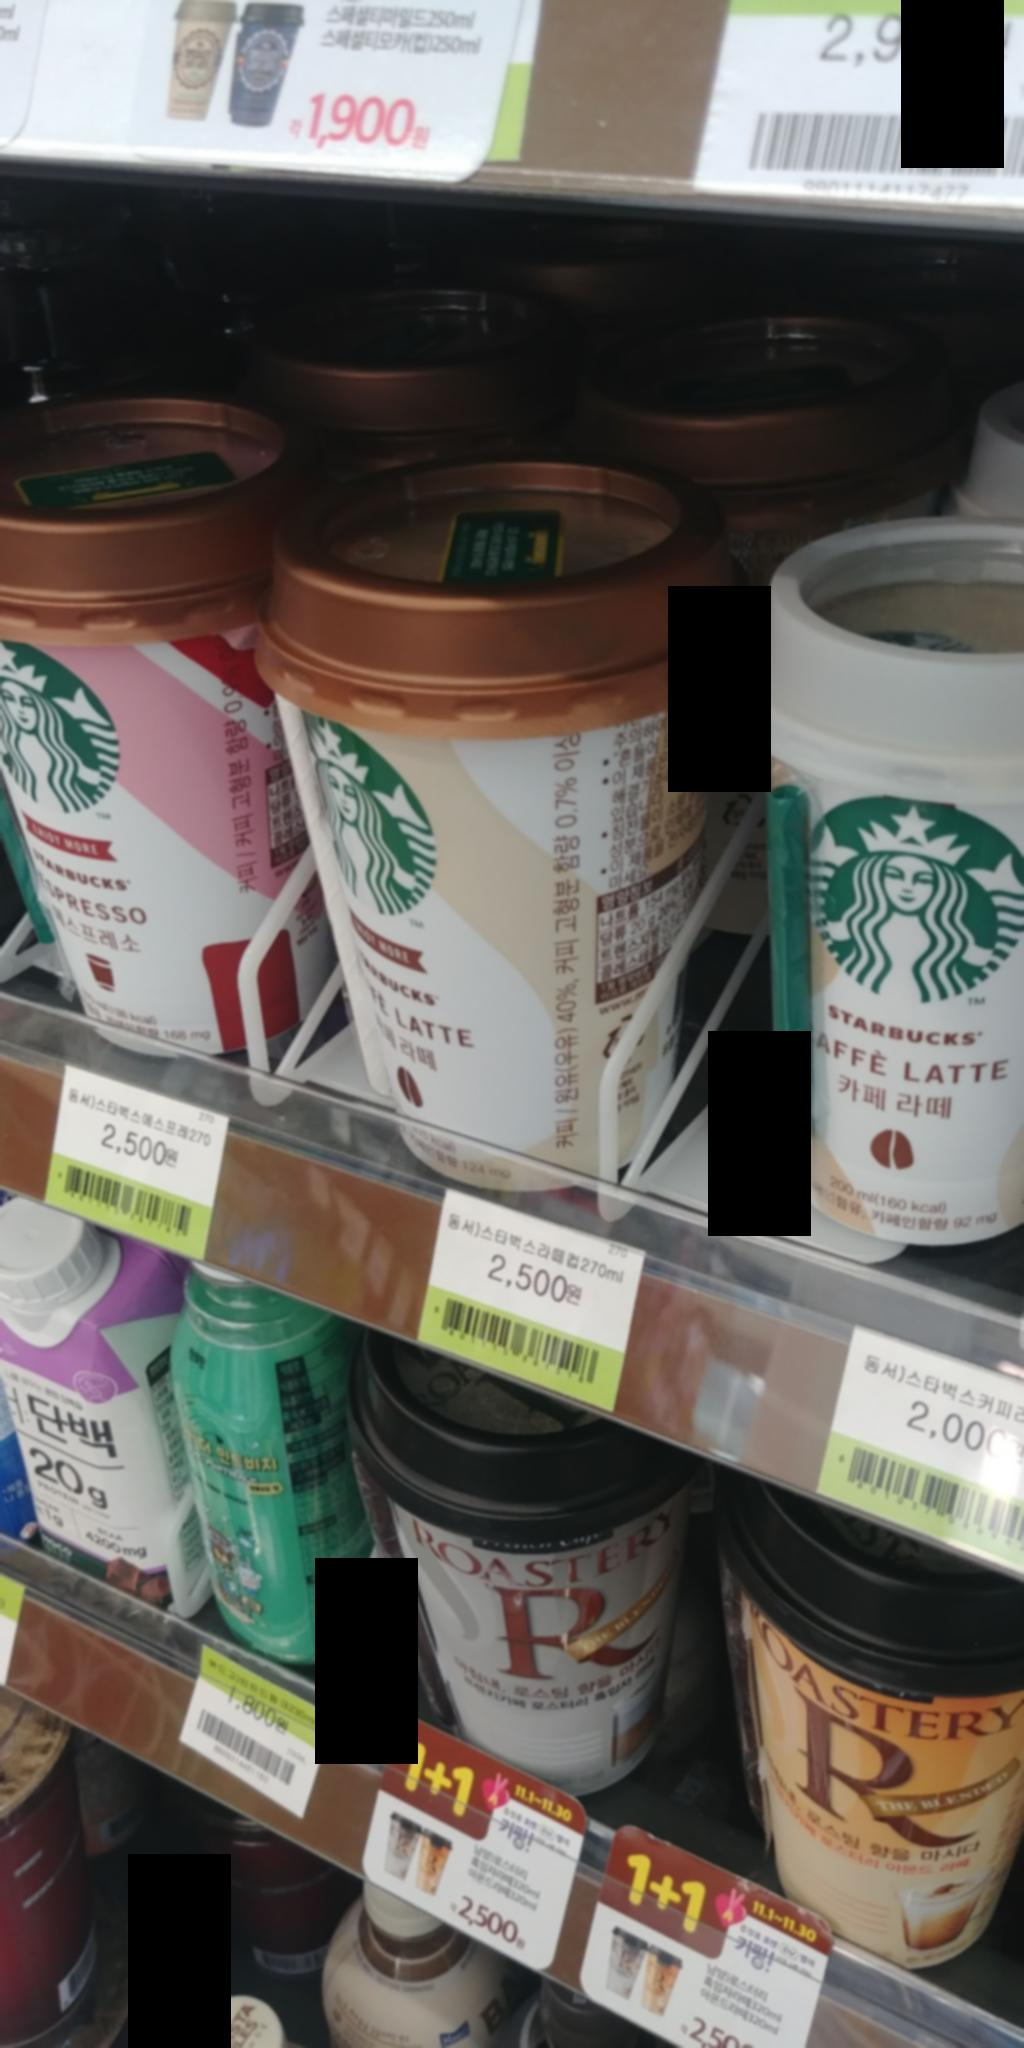starbucks_cafelatte: (263, 473, 705, 1168)
